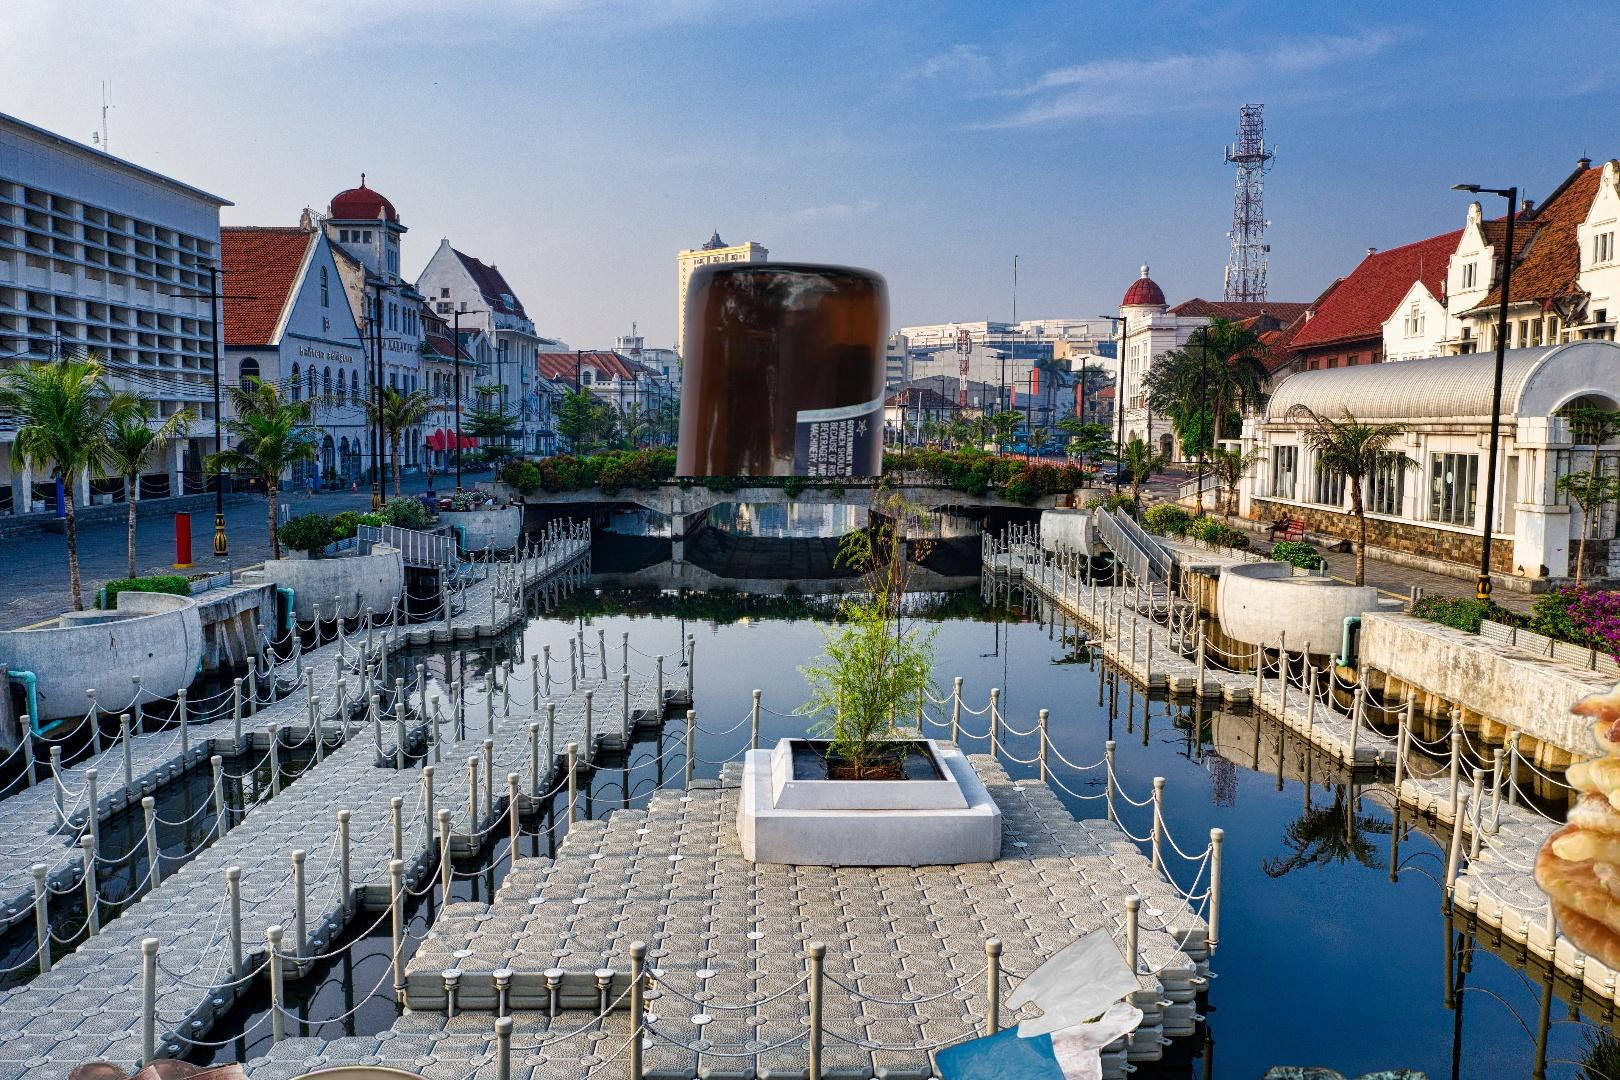biological: (1525, 606, 1620, 984), (243, 1062, 702, 1080)
clothes: (1150, 1060, 1550, 1080)
glass: (670, 258, 893, 476)
paper: (1516, 184, 1620, 568)
plastic-bag: (931, 925, 1147, 1080)
shoes: (67, 1056, 309, 1080)
